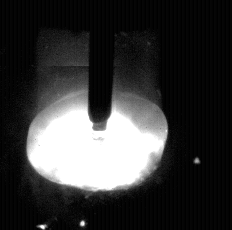arame: (88, 0, 114, 131)
poca: (26, 0, 166, 230)
